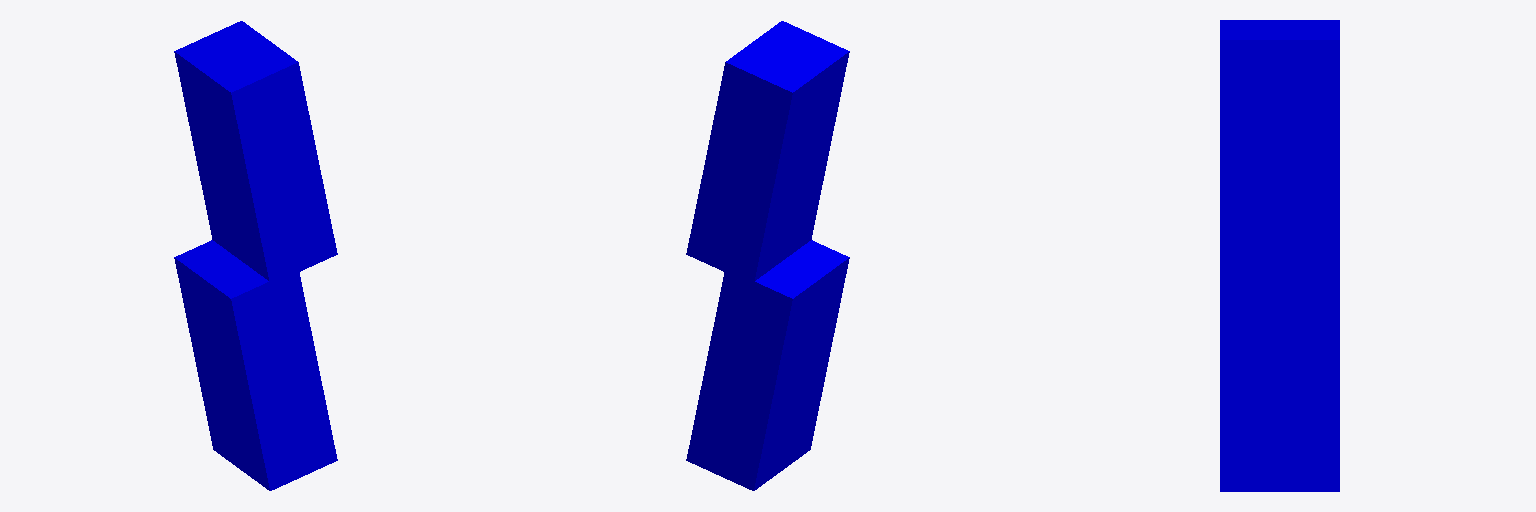
robot.urdf — oct:
<?xml version="1.0" ?>
<!-- =================================================================================== -->
<!-- |    This document was autogenerated by xacro from oct.urdf.xacro                 | -->
<!-- |    EDITING THIS FILE BY HAND IS NOT RECOMMENDED                                 | -->
<!-- =================================================================================== -->
<robot name="oct">
  <link name="world">
    <visual>
      <origin rpy="0 -0.20 0" xyz="0 0 0.05"/>
      <geometry>
        <box size="0.035 0.05 0.1"/>
      </geometry>
      <material name="Blue">
        <color rgba="0 0.0 1.0 0.5"/>
      </material>
    </visual>
    <collision>
      <origin rpy="0 -0.20 0" xyz="0 0 0.05"/>
      <geometry>
        <box size="0.035 0.05 0.1"/>
      </geometry>
    </collision>
    <inertial>
      <origin rpy="0 0 0" xyz="0 0 0.05"/>
      <mass value="0.180"/>
      <inertia ixx="6.0e-4" ixy="0" ixz="0" iyy="6.0e-4" iyz="0" izz="6.0e-4"/>
    </inertial>
  </link>
  <link name="base_link">
    <visual>
      <origin rpy="0 -0.20 0" xyz="0 0 0.05"/>
      <geometry>
        <box size="0.035 0.05 0.1"/>
      </geometry>
      <material name="Blue">
        <color rgba="0 0.0 1.0 0.5"/>
      </material>
    </visual>
    <collision>
      <origin rpy="0 -0.20 0" xyz="0 0 0.05"/>
      <geometry>
        <box size="0.035 0.05 0.1"/>
      </geometry>
    </collision>
    <inertial>
      <origin rpy="0 0 0" xyz="0 0 0.05"/>
      <mass value="0.180"/>
      <inertia ixx="6.0e-4" ixy="0" ixz="0" iyy="6.0e-4" iyz="0" izz="6.0e-4"/>
    </inertial>
  </link>
  <joint name="base_link_joint" type="fixed">
    <parent link="world"/>
    <child link="base_link"/>
    <origin rpy="0 0 0" xyz="0 0 0.1"/>
    <axis xyz="0 1 0"/>
  </joint>
  <link name="sonar_link_tissue">
    <visual>
      <origin rpy="1.57 0 1.57" xyz="0 0 0"/>
      <geometry>
        <mesh filename="file://[local-path]/Documents/JHU/rsp/rsp_fp_ws/install/oct_description/share/oct_description/meshes/HC-SR04.stl" scale="0.001 0.001 0.001"/>
      </geometry>
      <material name="red">
        <color rgba="1.0 0.0 0.0 0.5"/>
      </material>
    </visual>
    <collision>
      <origin rpy="1.57 0 1.57" xyz="0 0 0"/>
      <geometry>
        <mesh filename="file://[local-path]/Documents/JHU/rsp/rsp_fp_ws/install/oct_description/share/oct_description/meshes/HC-SR04.stl" scale="0.001 0.001 0.001"/>
      </geometry>
      <material name="red">
        <color rgba="1.0 0.0 0.0 0.5"/>
      </material>
    </collision>
  </link>
  <joint name="sonar_joint_tissue" type="fixed">
    <parent link="world"/>
    <child link="sonar_link_tissue"/>
    <origin rpy="0 0 0" xyz="0 0 0.1"/>
  </joint>
  <gazebo>
    <plugin filename="libignition-gazebo-joint-state-publisher-system.so" name="ignition::gazebo::systems::JointStatePublisher">
      </plugin>
  </gazebo>
  <gazebo reference="sonar_link_tissue">
    <sensor name="oct_tissue" type="camera">
      <camera>
        <horizontal_fov>1.047</horizontal_fov>
        <image>
          <width>320</width>
          <height>240</height>
        </image>
        <clip>
          <near>0.1</near>
          <far>100</far>
        </clip>
      </camera>
      <visibility_mask>[number redacted]</visibility_mask>
      <update_rate>30</update_rate>
      <always_on>1</always_on>
      <topic>camera</topic>
      <visualize>1</visualize>
      <plugin filename="ignition-gazebo-sensors-system" name="ignition::gazebo::systems::Sensors">
        </plugin>
    </sensor>
  </gazebo>
  <!--
    <gazebo reference="sonar_link_${id}">
      <sensor type="gpu_lidar" name="${name}">
        <update_rate>40.0</update_rate> 
        <always_on>1</always_on>
        <topic>sonar</topic>
        <visualize>1</visualize>
        <ignition_frame_id>sonar_link_${id}</ignition_frame_id>
        <ray>
          <scan>
            <horizontal>
              <samples>15</samples>
              <resolution>1.0</resolution>
              <min_angle>-0.1309</min_angle>
              <max_angle>0.1309</max_angle>
            </horizontal>
            <vertical>
              <samples>15</samples>
              <resolution>1.0</resolution>
              <min_angle>-0.1309</min_angle>
              <max_angle>0.1309</max_angle>
            </vertical>
          </scan>
          <range>
            <min>0.02</min>
            <max>4.0</max>
          </range>
        </ray>
        <plugin filename="ignition-gazebo-sensors-system" name="ignition::gazebo::systems::Sensors">
        </plugin>
      </sensor>
    </gazebo>
    -->
  <link name="sonar_link_nitinol">
    <visual>
      <origin rpy="1.57 0 1.57" xyz="0 0 0"/>
      <geometry>
        <mesh filename="file://[local-path]/Documents/JHU/rsp/rsp_fp_ws/install/oct_description/share/oct_description/meshes/HC-SR04.stl" scale="0.001 0.001 0.001"/>
      </geometry>
      <material name="red">
        <color rgba="1.0 0.0 0.0 0.5"/>
      </material>
    </visual>
    <collision>
      <origin rpy="1.57 0 1.57" xyz="0 0 0"/>
      <geometry>
        <mesh filename="file://[local-path]/Documents/JHU/rsp/rsp_fp_ws/install/oct_description/share/oct_description/meshes/HC-SR04.stl" scale="0.001 0.001 0.001"/>
      </geometry>
      <material name="red">
        <color rgba="1.0 0.0 0.0 0.5"/>
      </material>
    </collision>
  </link>
  <joint name="sonar_joint_nitinol" type="fixed">
    <parent link="world"/>
    <child link="sonar_link_nitinol"/>
    <origin rpy="0 0 0" xyz="0 0 0.1"/>
  </joint>
  <gazebo>
    <plugin filename="libignition-gazebo-joint-state-publisher-system.so" name="ignition::gazebo::systems::JointStatePublisher">
      </plugin>
  </gazebo>
  <gazebo reference="sonar_link_nitinol">
    <sensor name="oct_nitinol" type="camera">
      <camera>
        <horizontal_fov>1.047</horizontal_fov>
        <image>
          <width>320</width>
          <height>240</height>
        </image>
        <clip>
          <near>0.1</near>
          <far>100</far>
        </clip>
      </camera>
      <visibility_mask>[number redacted]</visibility_mask>
      <update_rate>30</update_rate>
      <always_on>1</always_on>
      <topic>camera</topic>
      <visualize>1</visualize>
      <plugin filename="ignition-gazebo-sensors-system" name="ignition::gazebo::systems::Sensors">
        </plugin>
    </sensor>
  </gazebo>
  <!--
    <gazebo reference="sonar_link_${id}">
      <sensor type="gpu_lidar" name="${name}">
        <update_rate>40.0</update_rate> 
        <always_on>1</always_on>
        <topic>sonar</topic>
        <visualize>1</visualize>
        <ignition_frame_id>sonar_link_${id}</ignition_frame_id>
        <ray>
          <scan>
            <horizontal>
              <samples>15</samples>
              <resolution>1.0</resolution>
              <min_angle>-0.1309</min_angle>
              <max_angle>0.1309</max_angle>
            </horizontal>
            <vertical>
              <samples>15</samples>
              <resolution>1.0</resolution>
              <min_angle>-0.1309</min_angle>
              <max_angle>0.1309</max_angle>
            </vertical>
          </scan>
          <range>
            <min>0.02</min>
            <max>4.0</max>
          </range>
        </ray>
        <plugin filename="ignition-gazebo-sensors-system" name="ignition::gazebo::systems::Sensors">
        </plugin>
      </sensor>
    </gazebo>
    -->
</robot>

--- Facts derived from the render (not from the file) ---
The picture shows the robot from 3 angles, left to right: view 1: azimuth 30°, elevation 25°; view 2: azimuth 150°, elevation 25°; view 3: azimuth 270°, elevation 25°; orthographic projection.
Model oct with 4 links and 3 joints (3 fixed), rooted at world, posed all joints at 0.
Visible links, largest first — view 1: base_link, world; view 2: base_link, world; view 3: base_link, world.
Link boxes in pixels (bbox=[...]): base_link: bbox=[174, 21, 337, 284]; world: bbox=[174, 240, 337, 490]; base_link: bbox=[686, 21, 849, 281]; world: bbox=[686, 240, 849, 490]; base_link: bbox=[1220, 20, 1339, 273]; world: bbox=[1220, 274, 1339, 491].
Bounding box of the posed robot: 0.0542 × 0.05 × 0.205 m (x, y, z).
Geometry: only primitive shapes (box / cylinder / sphere) drawn; not drawn: 2 mesh visuals (reference in a form the renderer does not follow).
